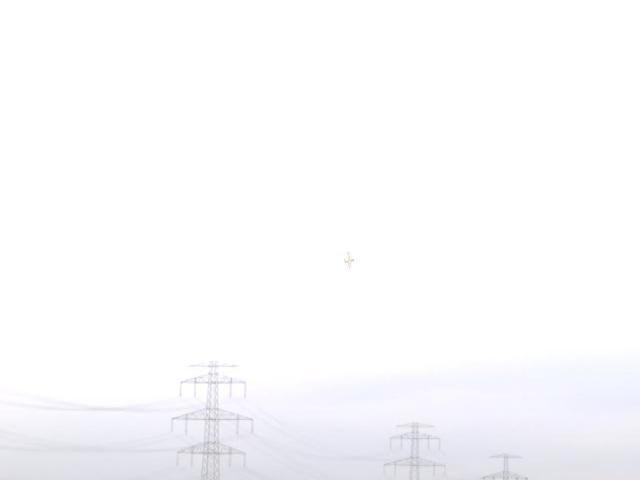iha: (338, 242, 361, 274)
